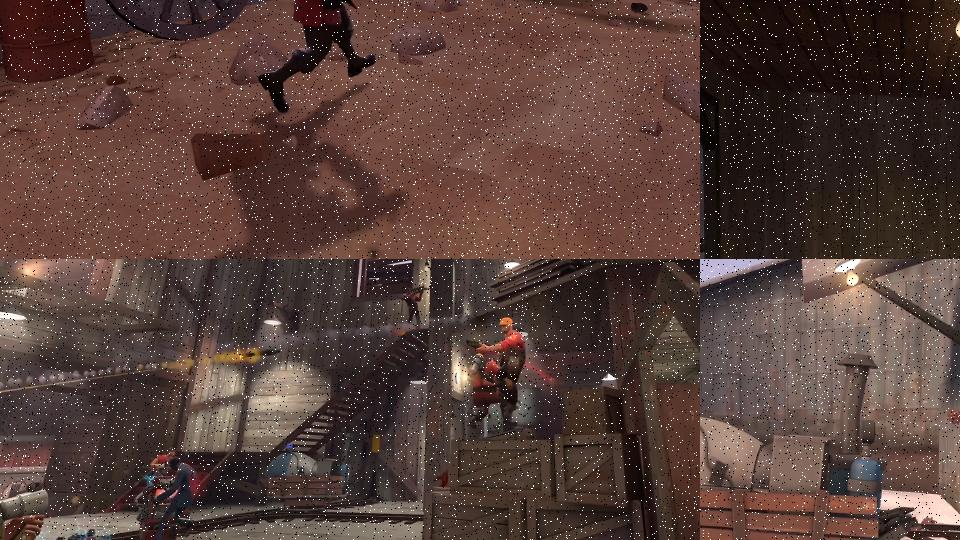Enemy: (257, 0, 430, 114), (466, 317, 526, 428), (144, 457, 198, 540), (464, 352, 501, 429), (401, 286, 427, 330), (151, 448, 176, 477)
